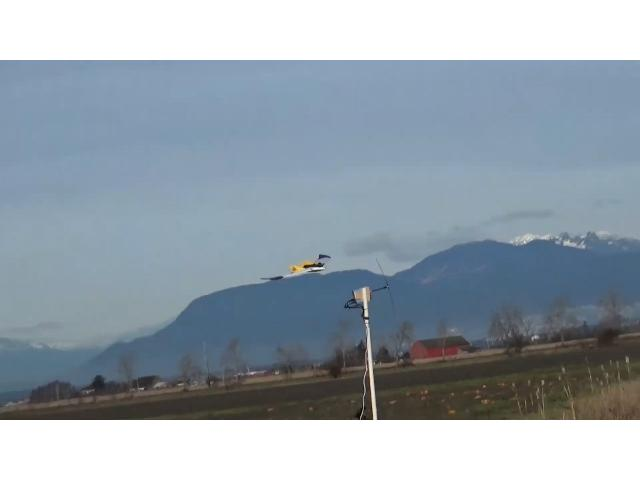Anti-Drone: (260, 253, 330, 280)
